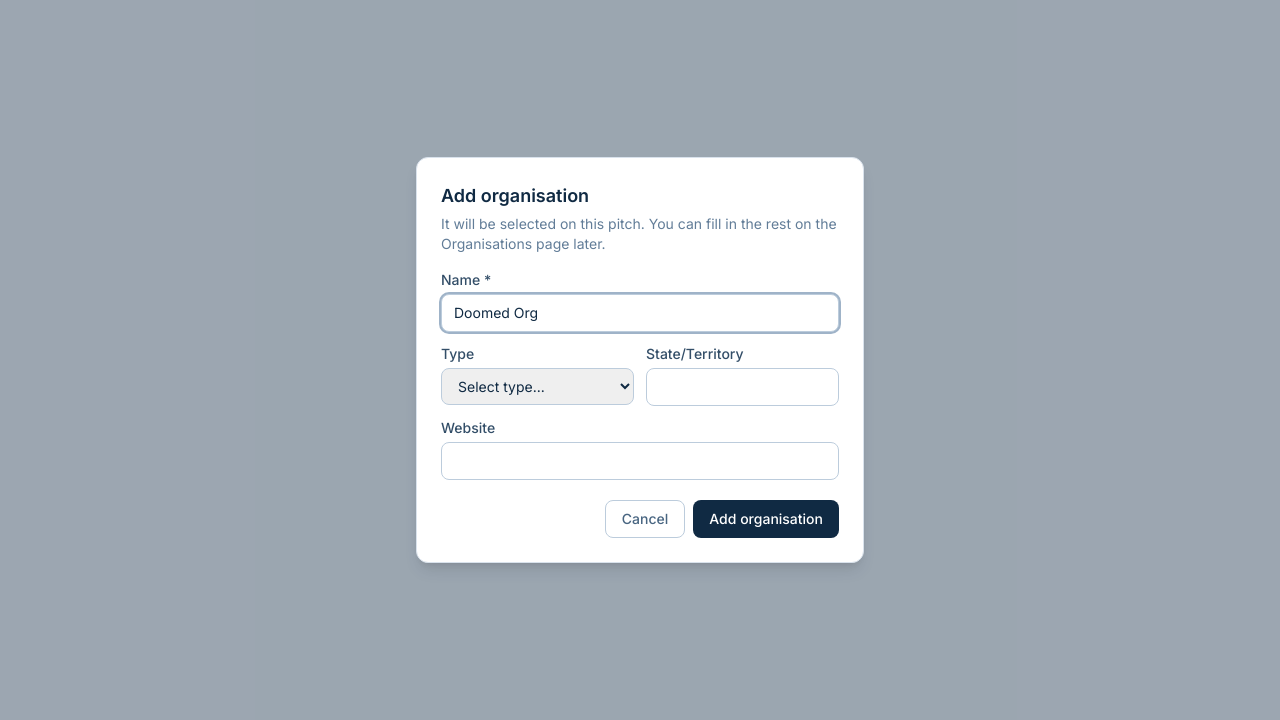
Test: OrganisationQuickCreateModal › shows a rejected save as a message and creates nothing
This screenshot has width=1280, height=720.
What coordinates should you click on to do the following:
click the button "Add organisation"
I would click on:
 (766, 519)
Its box is x1=693 y1=500 x2=839 y2=538.
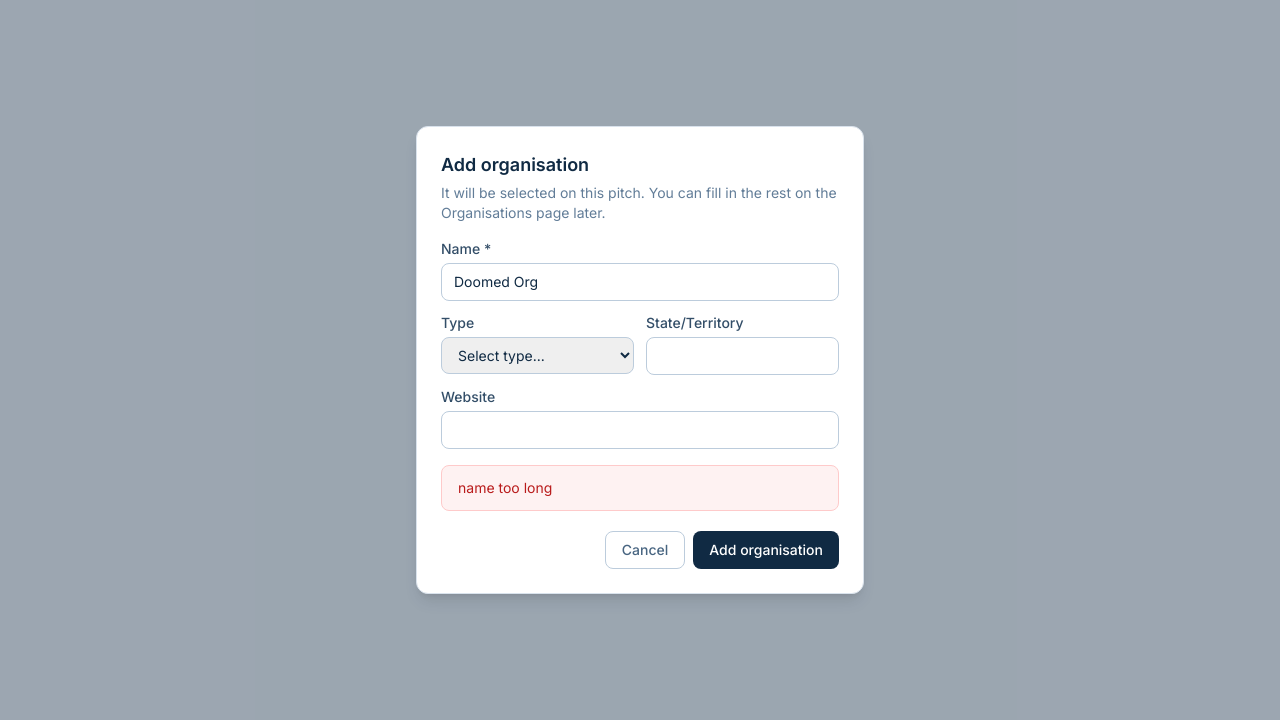
Result: the text "name too long" is shown at x1=441 y1=465 x2=839 y2=511
